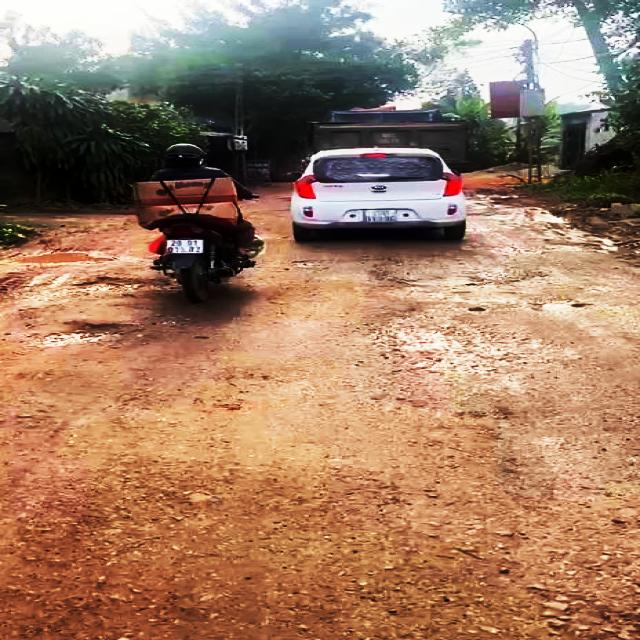pothole: (46, 317, 142, 348), (69, 276, 181, 298)
